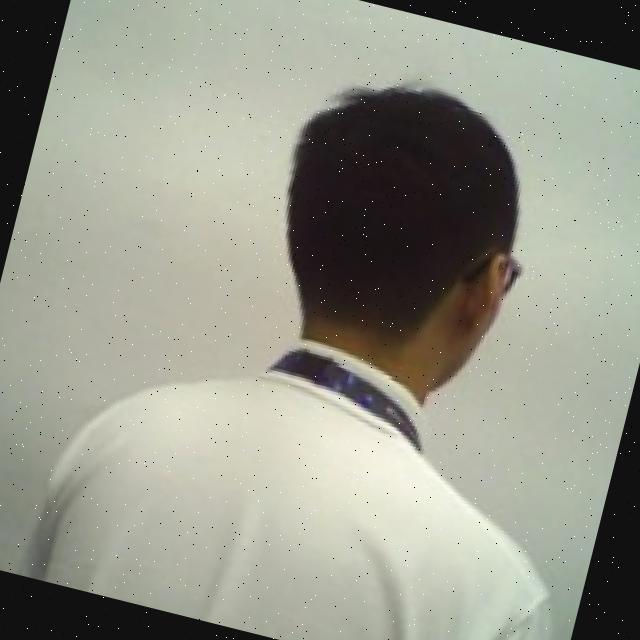no_gloves: (247, 50, 562, 383)
